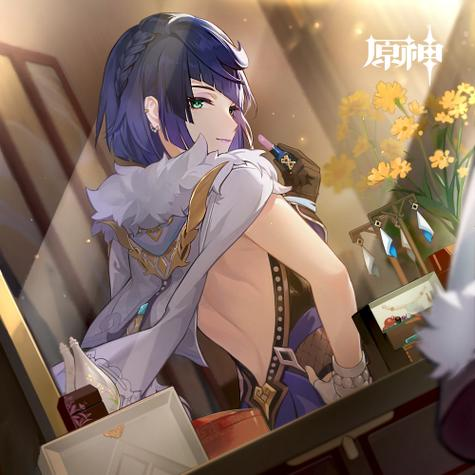夜兰: (88, 12, 373, 436)
